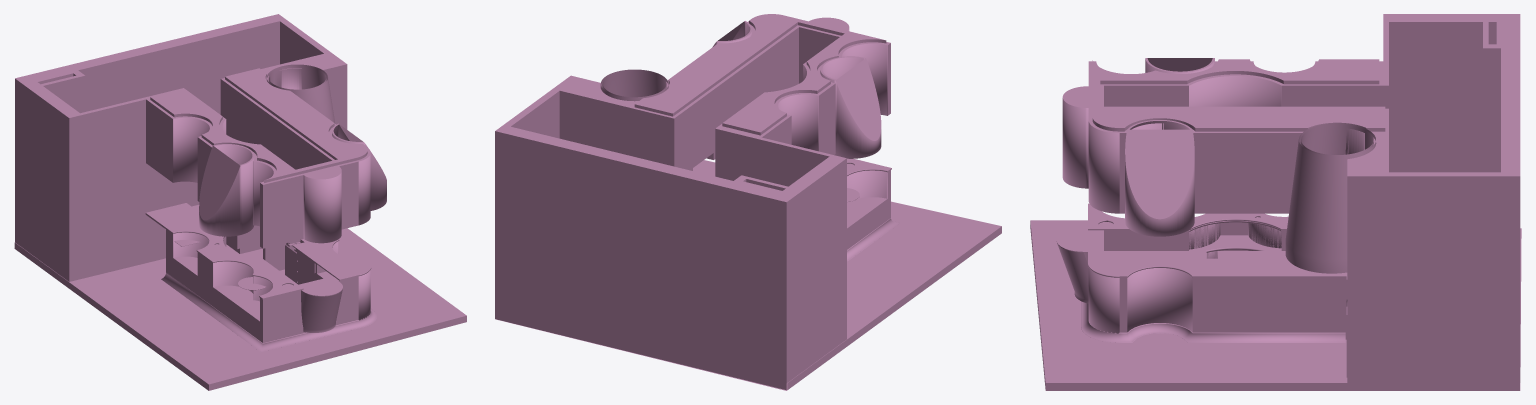
Rendered from asset.glb.
3 views of the same model, side by side, from view 1: azimuth 30°, elevation 25°; view 2: azimuth 150°, elevation 25°; view 3: azimuth 270°, elevation 25° (orthographic). The views are drawn at different scales.
Visible parts, largest first — view 1: the final model.001; view 2: the final model.001; view 3: the final model.001.
Boxes of the visible parts, x1,y1,x2,y2 form: the final model.001: [14, 14, 466, 390]; the final model.001: [495, 14, 1001, 390]; the final model.001: [1030, 14, 1521, 390].
Size of the model in its own units: 4.98 by 3.12 by 6.36.
